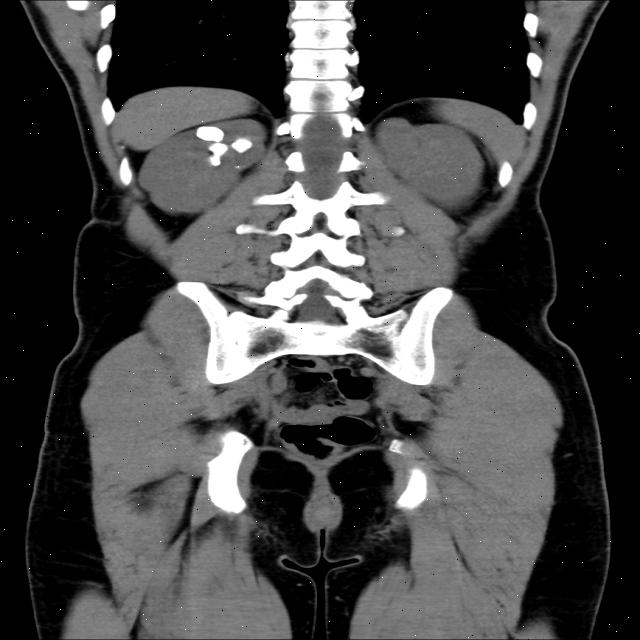kidneystone: (209, 142, 228, 166), (196, 126, 224, 142), (232, 139, 252, 152)
